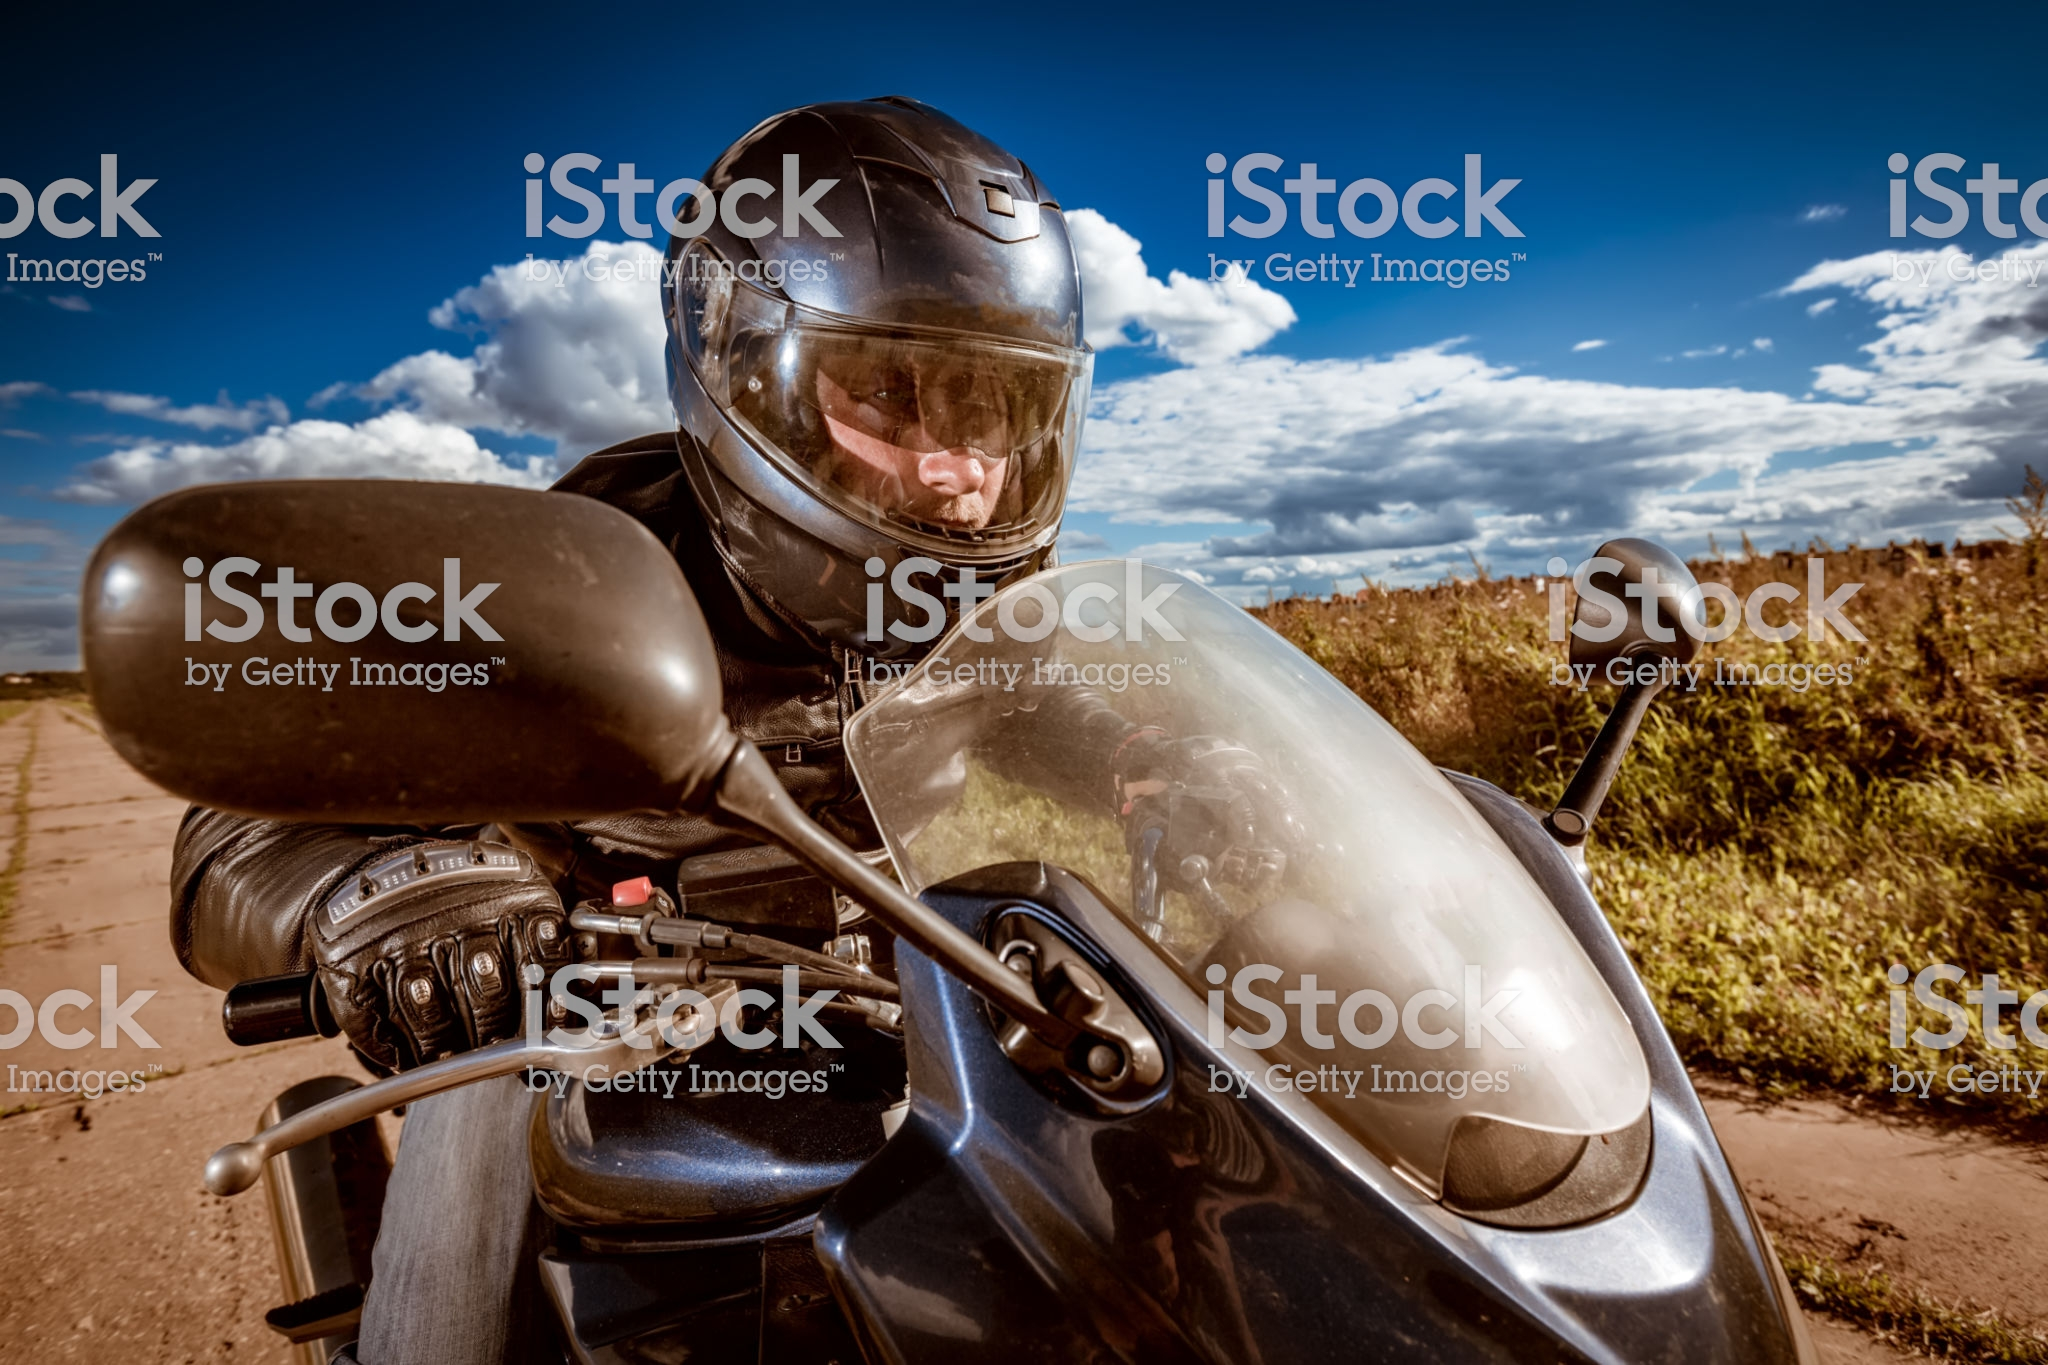helmet: (678, 97, 1051, 651)
